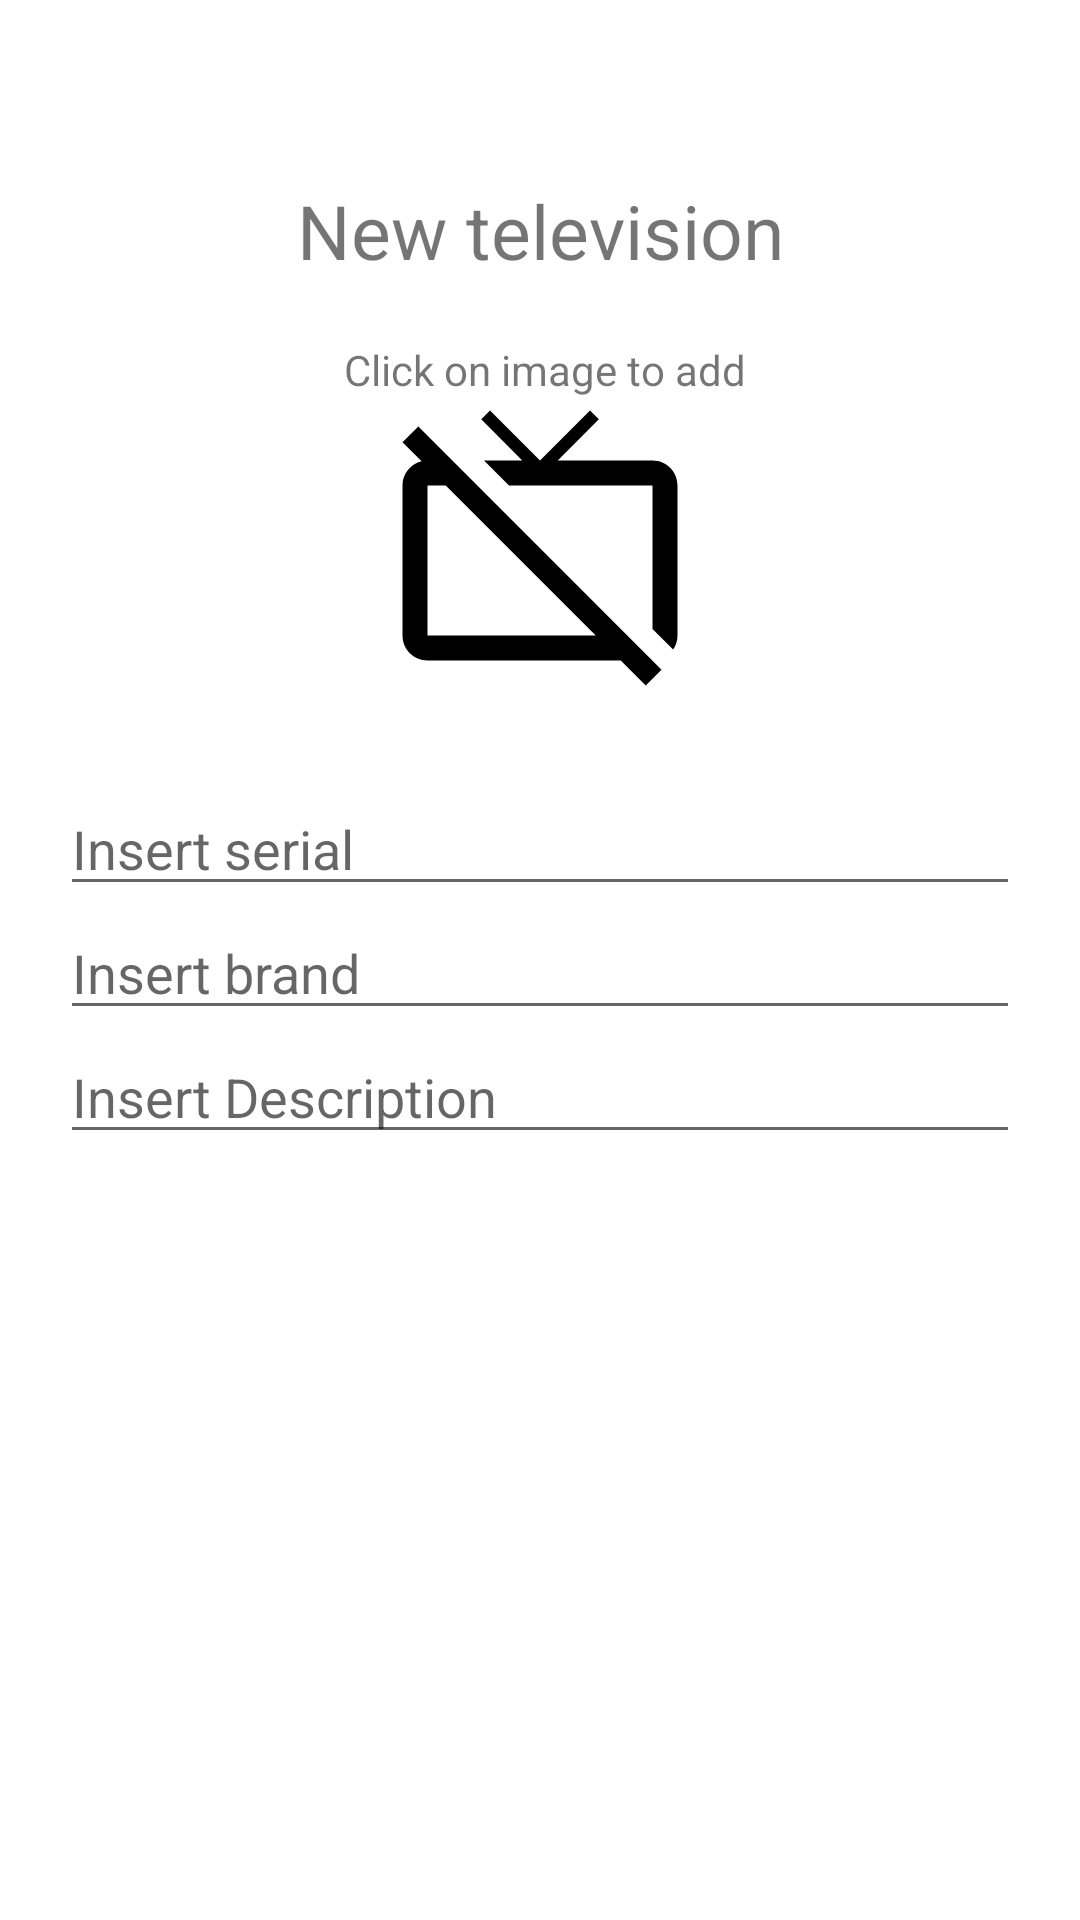

Locate icon controls on the screen. Image size 1080w x 1920h, boxes as (x1,y1,x2,y2).
tv off: (402,410,678,686)
